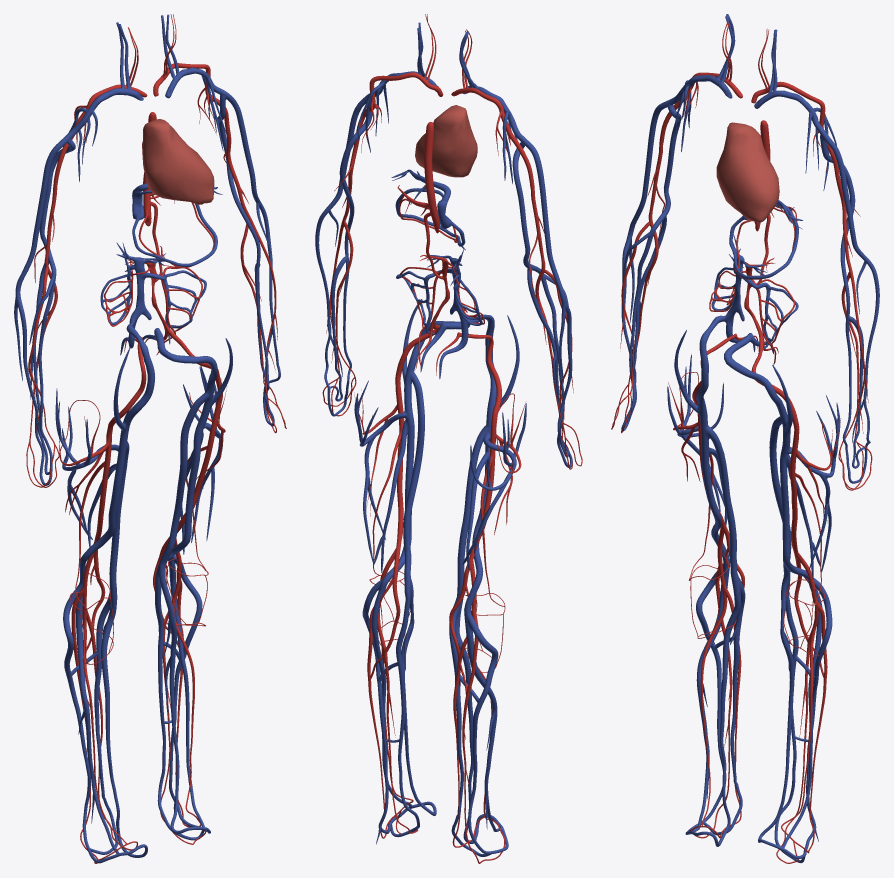
Rendered from pediatric_adolescent_female.cardiovascular.LOD0.glb.
3 renders of one model, left to right at view 1: azimuth 30°, elevation 25°; view 2: azimuth 150°, elevation 25°; view 3: azimuth 330°, elevation 25°, orthographic.
Parts seen in each view (by area): view 1: PEDIATRIC.ADOLESCENT.FEMALE.CARDIOVASCULAR.BLOOD_IN_LARGE_VE, PEDIATRIC.ADOLESCENT.FEMALE.CARDIOVASCULAR.BLOOD_IN_LARGE_AR, PEDIATRIC.ADOLESCENT.FEMALE.CARDIOVASCULAR.HEART_WALL; view 2: PEDIATRIC.ADOLESCENT.FEMALE.CARDIOVASCULAR.BLOOD_IN_LARGE_VE, PEDIATRIC.ADOLESCENT.FEMALE.CARDIOVASCULAR.BLOOD_IN_LARGE_AR, PEDIATRIC.ADOLESCENT.FEMALE.CARDIOVASCULAR.HEART_WALL; view 3: PEDIATRIC.ADOLESCENT.FEMALE.CARDIOVASCULAR.BLOOD_IN_LARGE_VE, PEDIATRIC.ADOLESCENT.FEMALE.CARDIOVASCULAR.BLOOD_IN_LARGE_AR, PEDIATRIC.ADOLESCENT.FEMALE.CARDIOVASCULAR.HEART_WALL.
Part boxes in pixels (box(x1,y1,x2,y2)): PEDIATRIC.ADOLESCENT.FEMALE.CARDIOVASCULAR.BLOOD_IN_LARGE_VE: box(14, 14, 280, 863); PEDIATRIC.ADOLESCENT.FEMALE.CARDIOVASCULAR.BLOOD_IN_LARGE_AR: box(26, 14, 286, 863); PEDIATRIC.ADOLESCENT.FEMALE.CARDIOVASCULAR.HEART_WALL: box(142, 119, 214, 204); PEDIATRIC.ADOLESCENT.FEMALE.CARDIOVASCULAR.BLOOD_IN_LARGE_VE: box(315, 22, 572, 856); PEDIATRIC.ADOLESCENT.FEMALE.CARDIOVASCULAR.BLOOD_IN_LARGE_AR: box(322, 14, 582, 863); PEDIATRIC.ADOLESCENT.FEMALE.CARDIOVASCULAR.HEART_WALL: box(415, 105, 477, 177); PEDIATRIC.ADOLESCENT.FEMALE.CARDIOVASCULAR.BLOOD_IN_LARGE_VE: box(621, 14, 879, 863); PEDIATRIC.ADOLESCENT.FEMALE.CARDIOVASCULAR.BLOOD_IN_LARGE_AR: box(611, 21, 872, 863); PEDIATRIC.ADOLESCENT.FEMALE.CARDIOVASCULAR.HEART_WALL: box(716, 122, 779, 222).
Size of the model in its own units: 0.463 by 1.45 by 0.1717.
